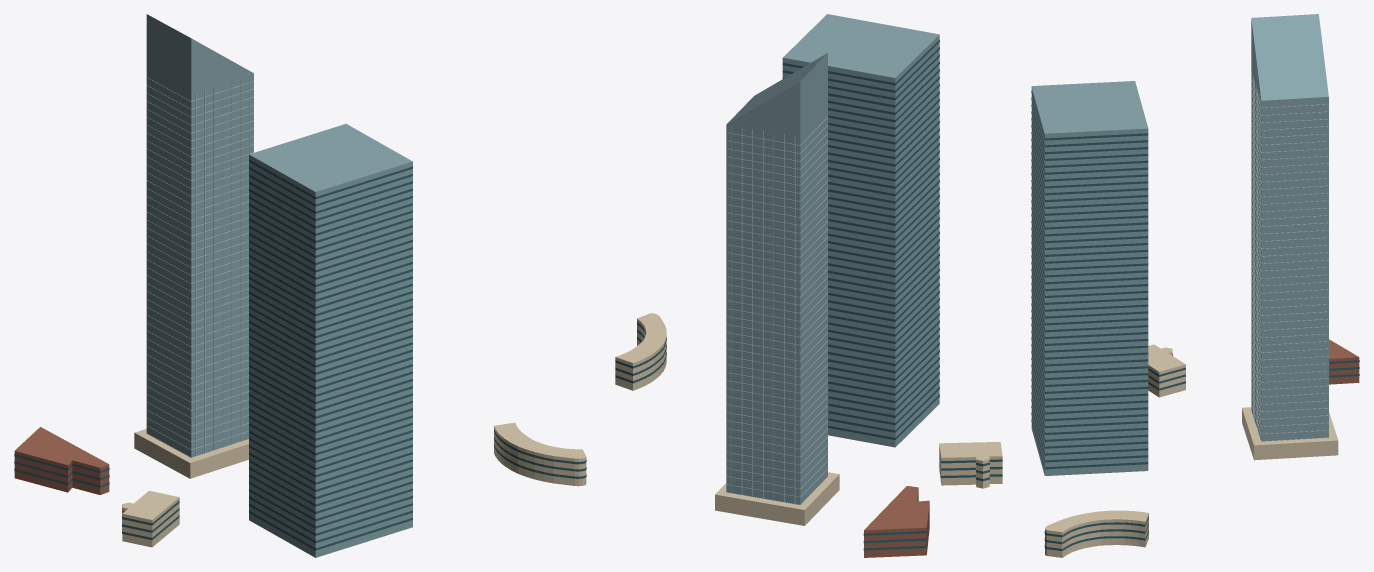
Rendered from city_3_-2.glb.
3 views of the same model, side by side, from view 1: azimuth 30°, elevation 25°; view 2: azimuth 150°, elevation 25°; view 3: azimuth 270°, elevation 25° (orthographic). The views are drawn at different scales.
Visible parts, largest first — view 1: city_3_-2; view 2: city_3_-2; view 3: city_3_-2.
Part boxes in pixels (<box>): city_3_-2: <box>14,14,586,557</box>; city_3_-2: <box>615,14,1002,557</box>; city_3_-2: <box>1031,14,1359,557</box>.
Size of the model in its own units: 245 by 238 by 174.
